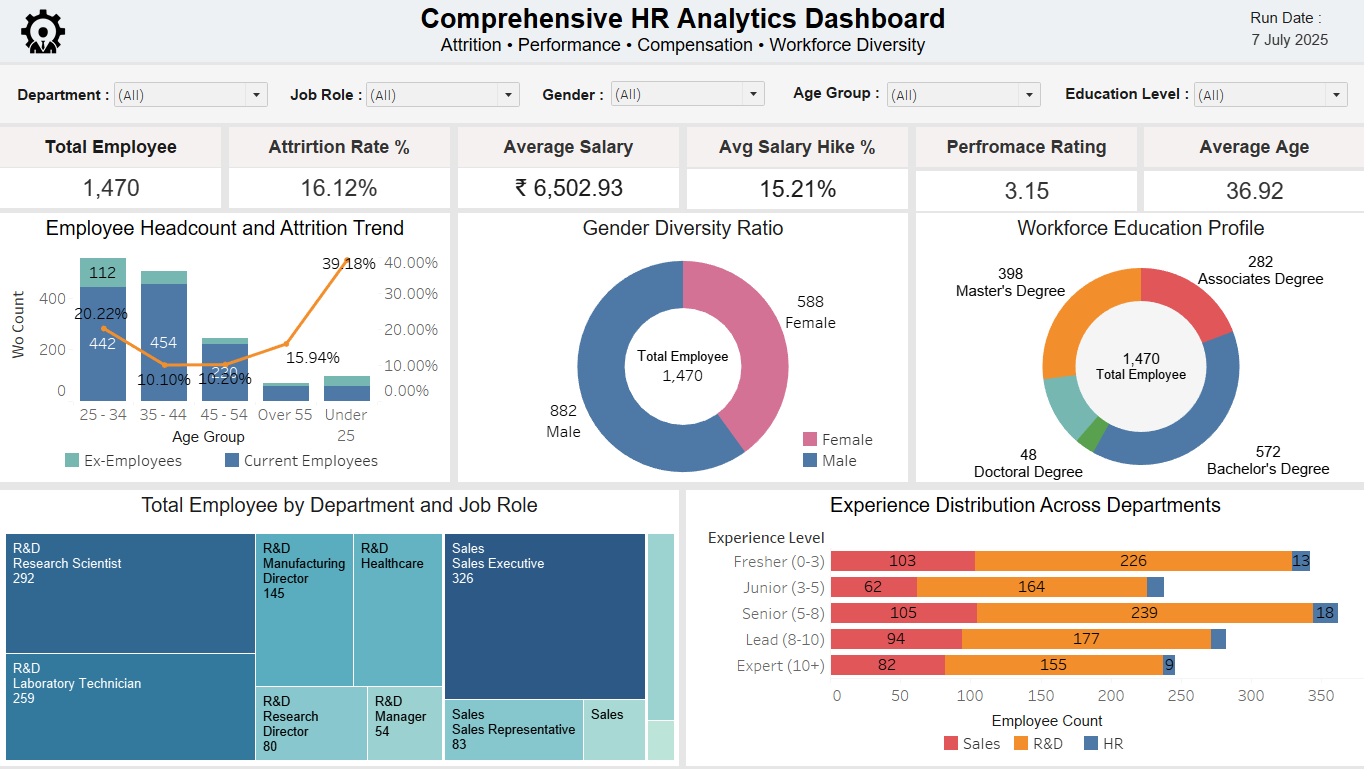

The dashboard page shown, as its layout file describes it:
{"tool":"tableau","page":{"name":"Main","canvas":[1366,768],"ordinal":0},"visuals":[{"type":"text","box":[0,0,1366,64]},{"type":"text","box":[1247,8,84,24]},{"type":"image","param":"Image/management.png","box":[13,9,60,49]},{"type":"worksheet","title":"Run  Date","mark":"Automatic","box":[1240,32,100,23]},{"type":"blank","box":[0,67,1366,58]},{"type":"filter","title":"Gender Diversity Ratio","param":"[federated.1ict1gn15ucvxg0zuuh3g1rsls32].[none:Gender:nk]","box":[608,82,160,28]},{"type":"text","box":[1062,82,130,28]},{"type":"text","box":[14,83,97,28]},{"type":"filter","title":"Gender Diversity Ratio","param":"[federated.1ict1gn15ucvxg0zuuh3g1rsls32].[none:Department:nk]","box":[111,83,160,28]},{"type":"text","box":[287,83,77,28]},{"type":"filter","title":"Gender Diversity Ratio","param":"[federated.1ict1gn15ucvxg0zuuh3g1rsls32].[none:Job Role:nk]","box":[363,83,160,28]},{"type":"text","box":[539,83,69,28]},{"type":"text","box":[790,83,93,24]},{"type":"filter","title":"Gender Diversity Ratio","param":"[federated.1ict1gn15ucvxg0zuuh3g1rsls32].[none:CF_age band:nk]","box":[884,83,160,28]},{"type":"filter","title":"Gender Diversity Ratio","param":"[federated.1ict1gn15ucvxg0zuuh3g1rsls32].[none:Education:nk]","box":[1191,83,160,28]},{"type":"text","box":[0,129,221,40]},{"type":"text","box":[229,129,221,40]},{"type":"text","box":[458,129,221,40]},{"type":"text","box":[687,129,221,40]},{"type":"text","box":[916,129,221,40]},{"type":"text","box":[1144,129,221,40]},{"type":"worksheet","title":"Total Emp Card","mark":"Automatic","box":[0,170,221,40]},{"type":"worksheet","title":"Attrirtion rate %  Card","mark":"Automatic","box":[229,170,221,40]},{"type":"worksheet","title":"Avg Sal Card","mark":"Automatic","box":[458,170,221,40]},{"type":"worksheet","title":"Avg sal hike card","mark":"Automatic","box":[687,171,221,40]},{"type":"worksheet","title":"Avarage Performance Rating","mark":"Automatic","box":[916,173,221,40]},{"type":"worksheet","title":"Average Age Card","mark":"Automatic","box":[1144,173,221,40]},{"type":"worksheet","title":"Employee Headcount and Attrition Trend","mark":"Bar","rows":["Employee Count","Calculation_1918533469395169281"],"cols":["CF_age band"],"box":[0,215,450,269]},{"type":"worksheet","title":"Gender Diversity Ratio","mark":"Pie","rows":["Calculation_1918533469532733459","Calculation_1918533469532786709"],"box":[458,215,450,269]},{"type":"worksheet","title":"Workforce Education Profile1","mark":"Pie","rows":["Calculation_868631806624059397","Calculation_868631806624083975"],"box":[916,215,450,269]},{"type":"text","box":[169,427,93,24]},{"type":"legend","title":"Gender Diversity Ratio","param":"[federated.1ict1gn15ucvxg0zuuh3g1rsls32].[none:Gender:nk]","box":[800,431,97,43]},{"type":"legend","title":"Employee Headcount and Attrition Trend","param":"[federated.1ict1gn15ucvxg0zuuh3g1rsls32].[none:CF_attrition label:nk]","box":[62,452,331,21]},{"type":"worksheet","title":"Total Employee By Department","mark":"Automatic","box":[0,492,679,276]},{"type":"worksheet","title":"Experience Distribution Across Departments","mark":"Automatic","rows":["Calculation_1440870434416693248"],"cols":["Employee Count"],"box":[686,492,679,276]},{"type":"text","box":[978,711,138,24]},{"type":"legend","title":"Experience Distribution Across Departments","param":"[federated.1ict1gn15ucvxg0zuuh3g1rsls32].[none:Department:nk]","box":[941,735,217,27]}]}

Visuals, with their boxes in screenshot pixels (x1, y1, x2, y2), scaled from the page's 1366x768 canvas onto the 1364x769 screenshot:
text: BBox(0, 0, 1363, 64)
text: BBox(1245, 8, 1329, 32)
image: BBox(13, 9, 73, 58)
"Run  Date" worksheet: BBox(1238, 32, 1338, 55)
blank: BBox(0, 67, 1363, 125)
"Gender Diversity Ratio" filter: BBox(607, 82, 767, 110)
text: BBox(1060, 82, 1190, 110)
text: BBox(14, 83, 111, 111)
"Gender Diversity Ratio" filter: BBox(111, 83, 271, 111)
text: BBox(287, 83, 363, 111)
"Gender Diversity Ratio" filter: BBox(362, 83, 522, 111)
text: BBox(538, 83, 607, 111)
text: BBox(789, 83, 882, 107)
"Gender Diversity Ratio" filter: BBox(883, 83, 1042, 111)
"Gender Diversity Ratio" filter: BBox(1189, 83, 1349, 111)
text: BBox(0, 129, 221, 169)
text: BBox(229, 129, 449, 169)
text: BBox(457, 129, 678, 169)
text: BBox(686, 129, 907, 169)
text: BBox(915, 129, 1135, 169)
text: BBox(1142, 129, 1363, 169)
"Total Emp Card" worksheet: BBox(0, 170, 221, 210)
"Attrirtion rate %  Card" worksheet: BBox(229, 170, 449, 210)
"Avg Sal Card" worksheet: BBox(457, 170, 678, 210)
"Avg sal hike card" worksheet: BBox(686, 171, 907, 211)
"Avarage Performance Rating" worksheet: BBox(915, 173, 1135, 213)
"Average Age Card" worksheet: BBox(1142, 173, 1363, 213)
"Employee Headcount and Attrition Trend" worksheet (Bar marks): BBox(0, 215, 449, 485)
"Gender Diversity Ratio" worksheet (Pie marks): BBox(457, 215, 907, 485)
"Workforce Education Profile1" worksheet (Pie marks): BBox(915, 215, 1363, 485)
text: BBox(169, 428, 262, 452)
"Gender Diversity Ratio" legend: BBox(799, 432, 896, 475)
"Employee Headcount and Attrition Trend" legend: BBox(62, 453, 392, 474)
"Total Employee By Department" worksheet: BBox(0, 493, 678, 768)
"Experience Distribution Across Departments" worksheet: BBox(685, 493, 1363, 768)
text: BBox(977, 712, 1114, 736)
"Experience Distribution Across Departments" legend: BBox(940, 736, 1156, 763)
